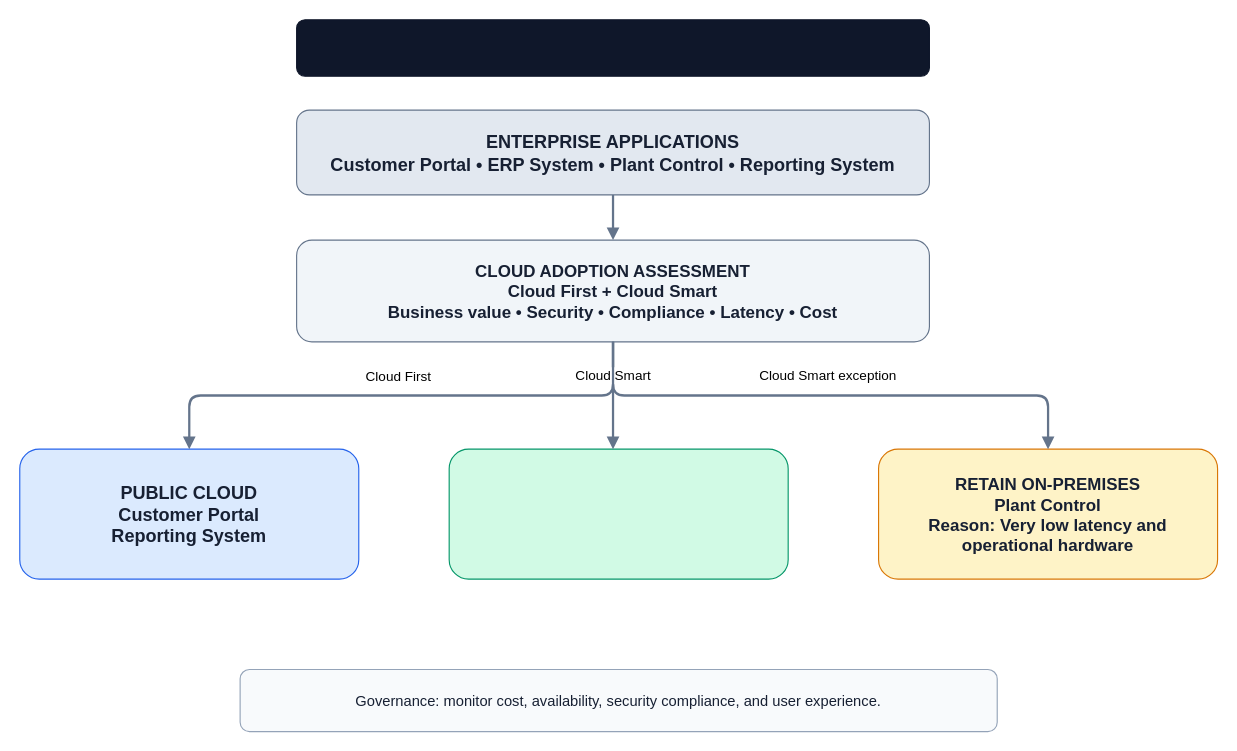
Some shapes in this 1237 by 751 pixel diagram are drawn without their labels. Each missing label, with the centre of its shape:
ENTERPRISE CLOUD ADOPTION STRATEGY: the point at 612,47
HYBRID CLOUD ERP System Cloud services + On-premises dependencies: the point at 618,513
